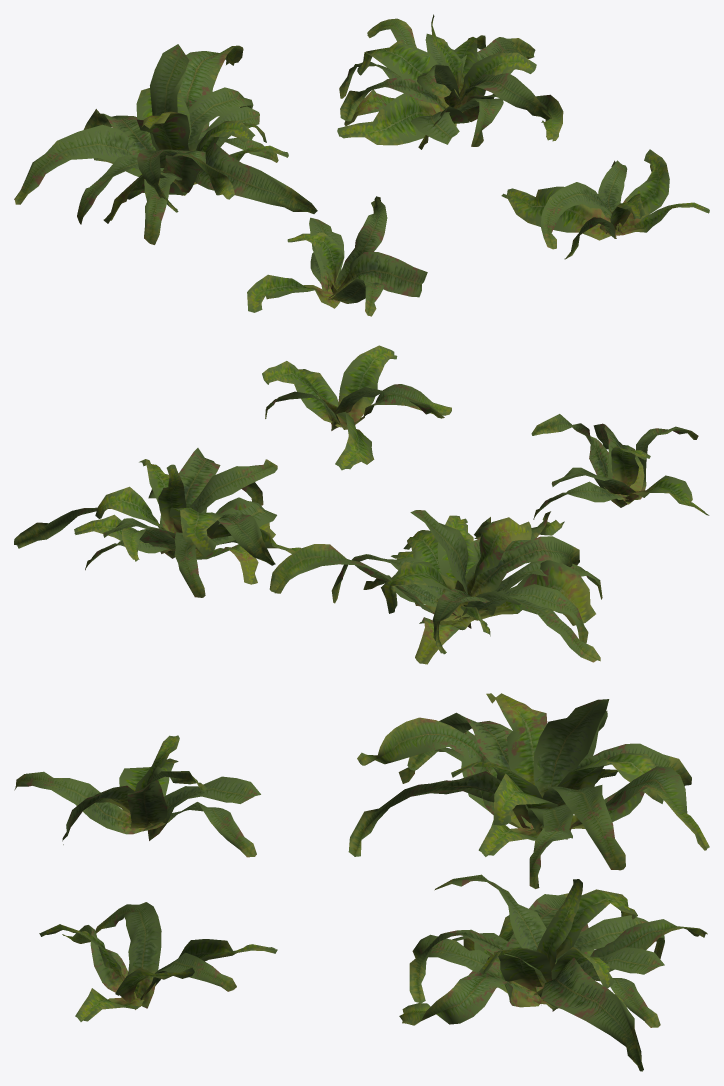
Rendered from fern_a.glb.
3 views of the same model, one above another, from view 1: azimuth 30°, elevation 25°; view 2: azimuth 150°, elevation 25°; view 3: azimuth 270°, elevation 25° (orthographic). The views are drawn at different scales.
Parts seen in each view (by area): view 1: fern_a; view 2: fern_a; view 3: fern_a.
Boxes of the visible parts, x1,y1,x2,y2 form: fern_a: (14, 14, 709, 316); fern_a: (14, 345, 709, 664); fern_a: (14, 693, 709, 1071).
Bounding box in the file's own units: 1.97 × 0.4261 × 1.72.
1 material, 1 textured.
